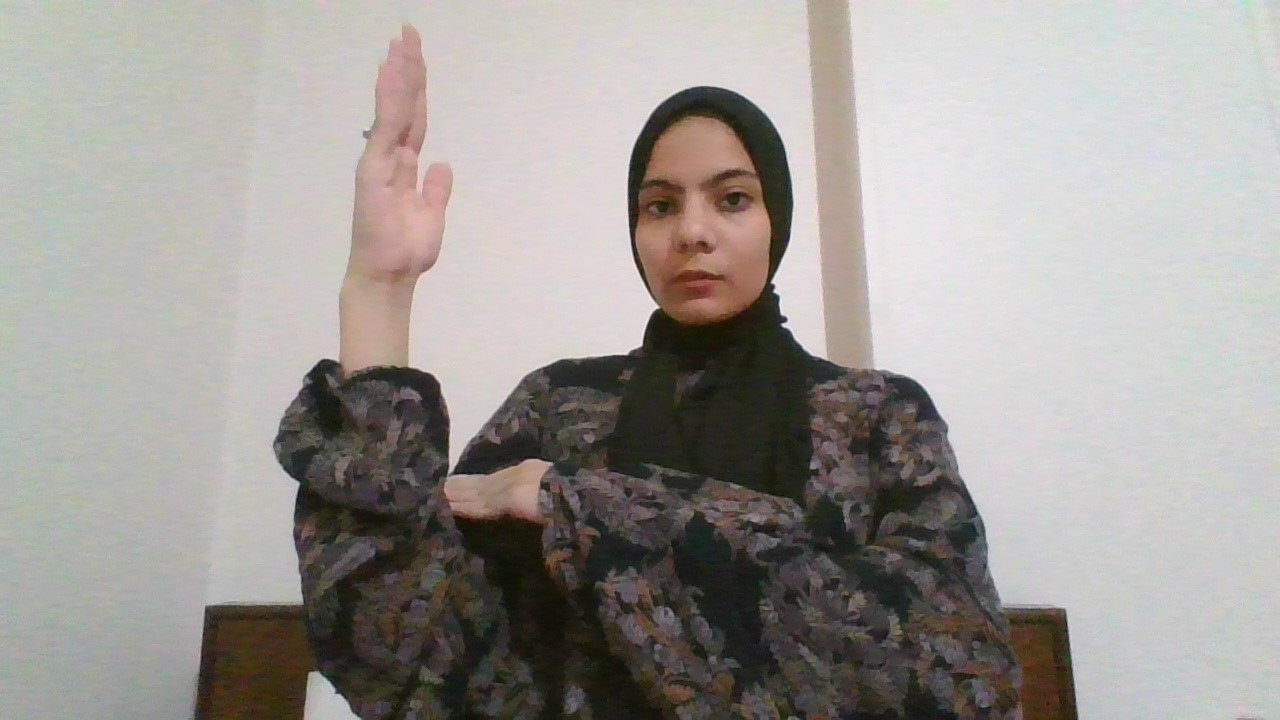morning: (313, 13, 618, 626)
